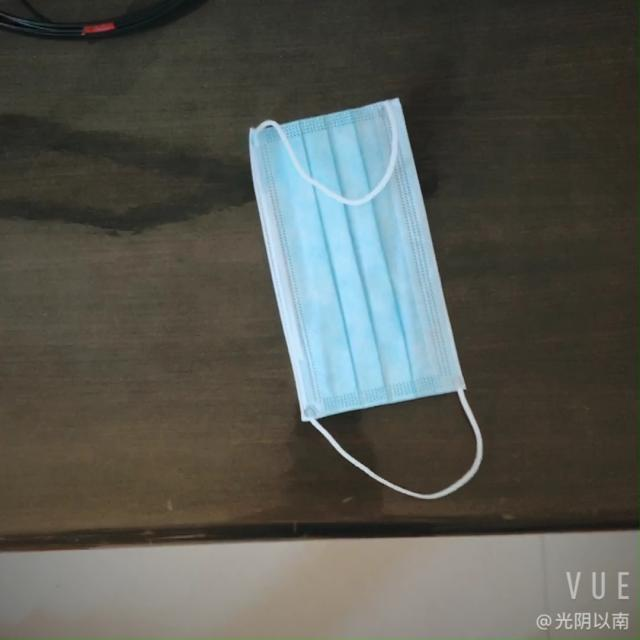face mask: (238, 106, 492, 427)
